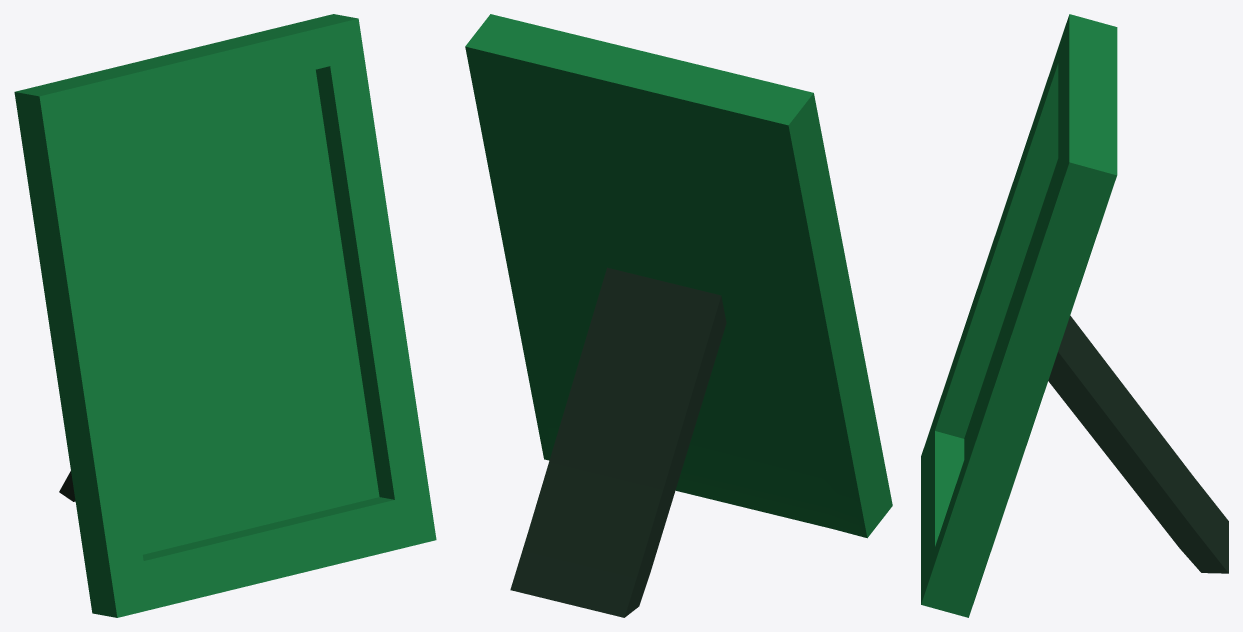
The model's file is portrait_painted.fbx.
The picture shows the model from 3 angles, left to right: view 1: azimuth 30°, elevation 25°; view 2: azimuth 150°, elevation 25°; view 3: azimuth 270°, elevation 25°; orthographic projection. The views are drawn at different scales.
Parts seen in each view (by area): view 1: portrait_low; view 2: portrait_low, portrait_stand_low; view 3: portrait_low, portrait_stand_low.
Boxes of the visible parts, x1,y1,x2,y2 form: portrait_low: (14,14,436,617); portrait_low: (465,14,892,538); portrait_stand_low: (510,267,726,617); portrait_low: (921,14,1117,617); portrait_stand_low: (1048,315,1228,573).
Size of the model in its own units: 5.06 by 7.31 by 4.44.
